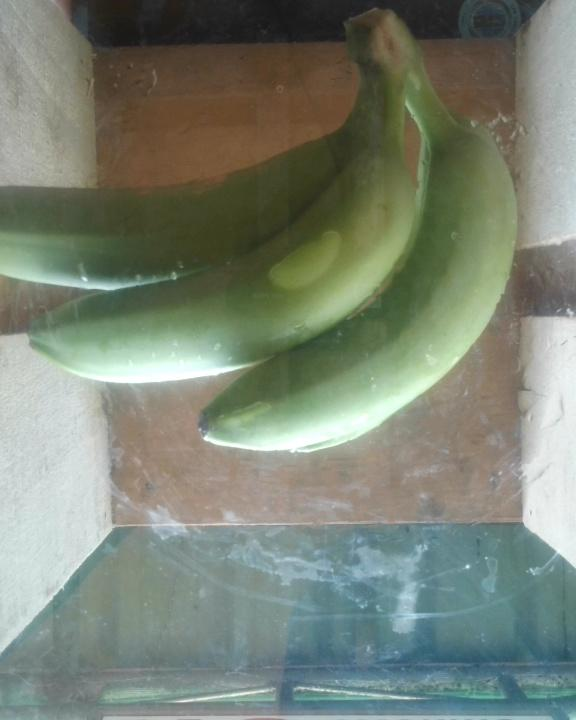SPOT: (1, 7, 536, 456)
